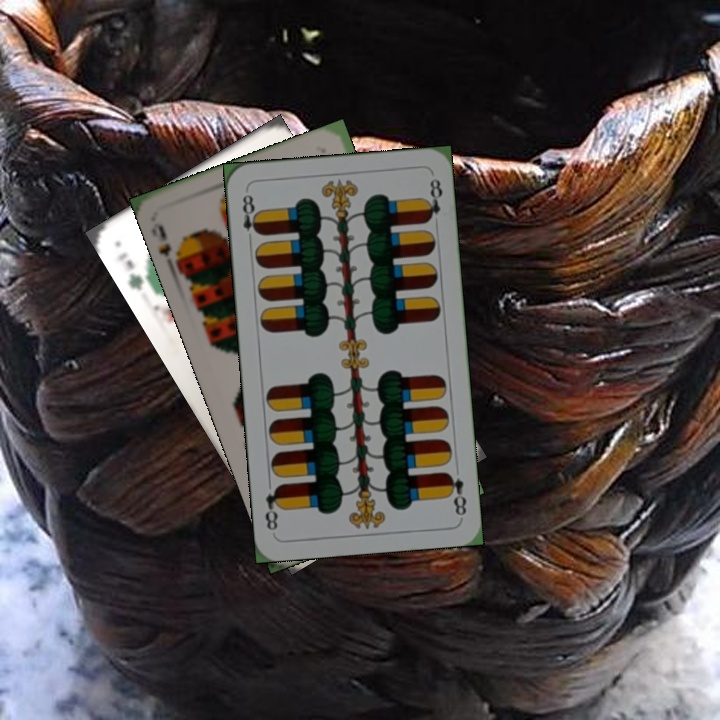E8: (238, 190, 263, 246), (442, 469, 469, 518)
GK: (113, 248, 155, 293)
S9: (153, 220, 187, 273)
